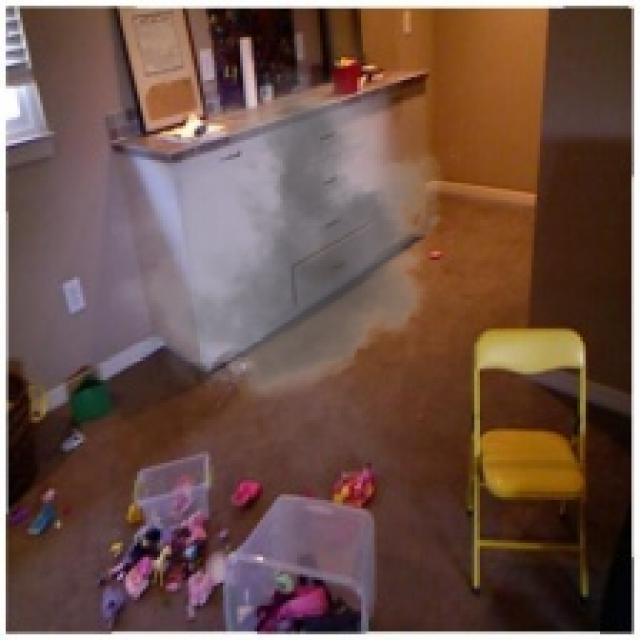smoke: (109, 66, 460, 414)
